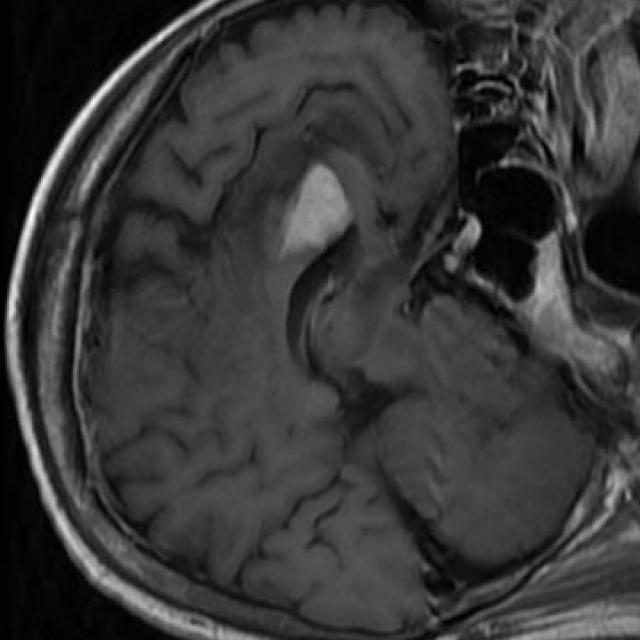glioma: (282, 164, 353, 255)
